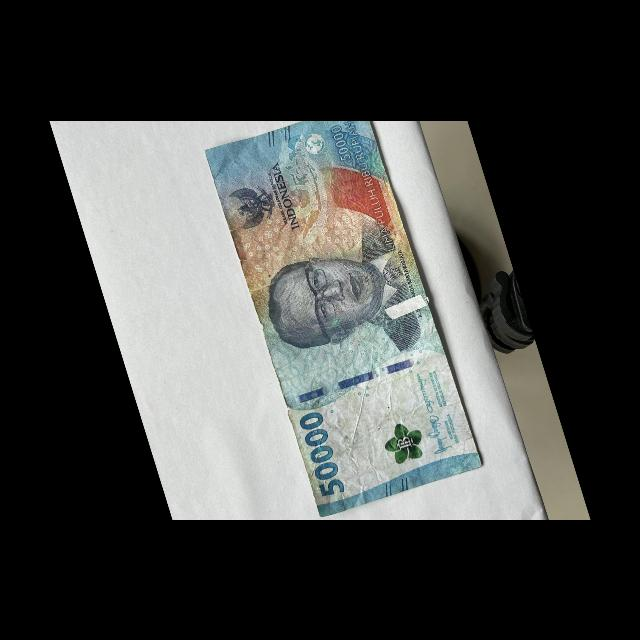Palsu-50k: (195, 92, 489, 524)
Tinta-Palsu-50k: (377, 416, 431, 468)
